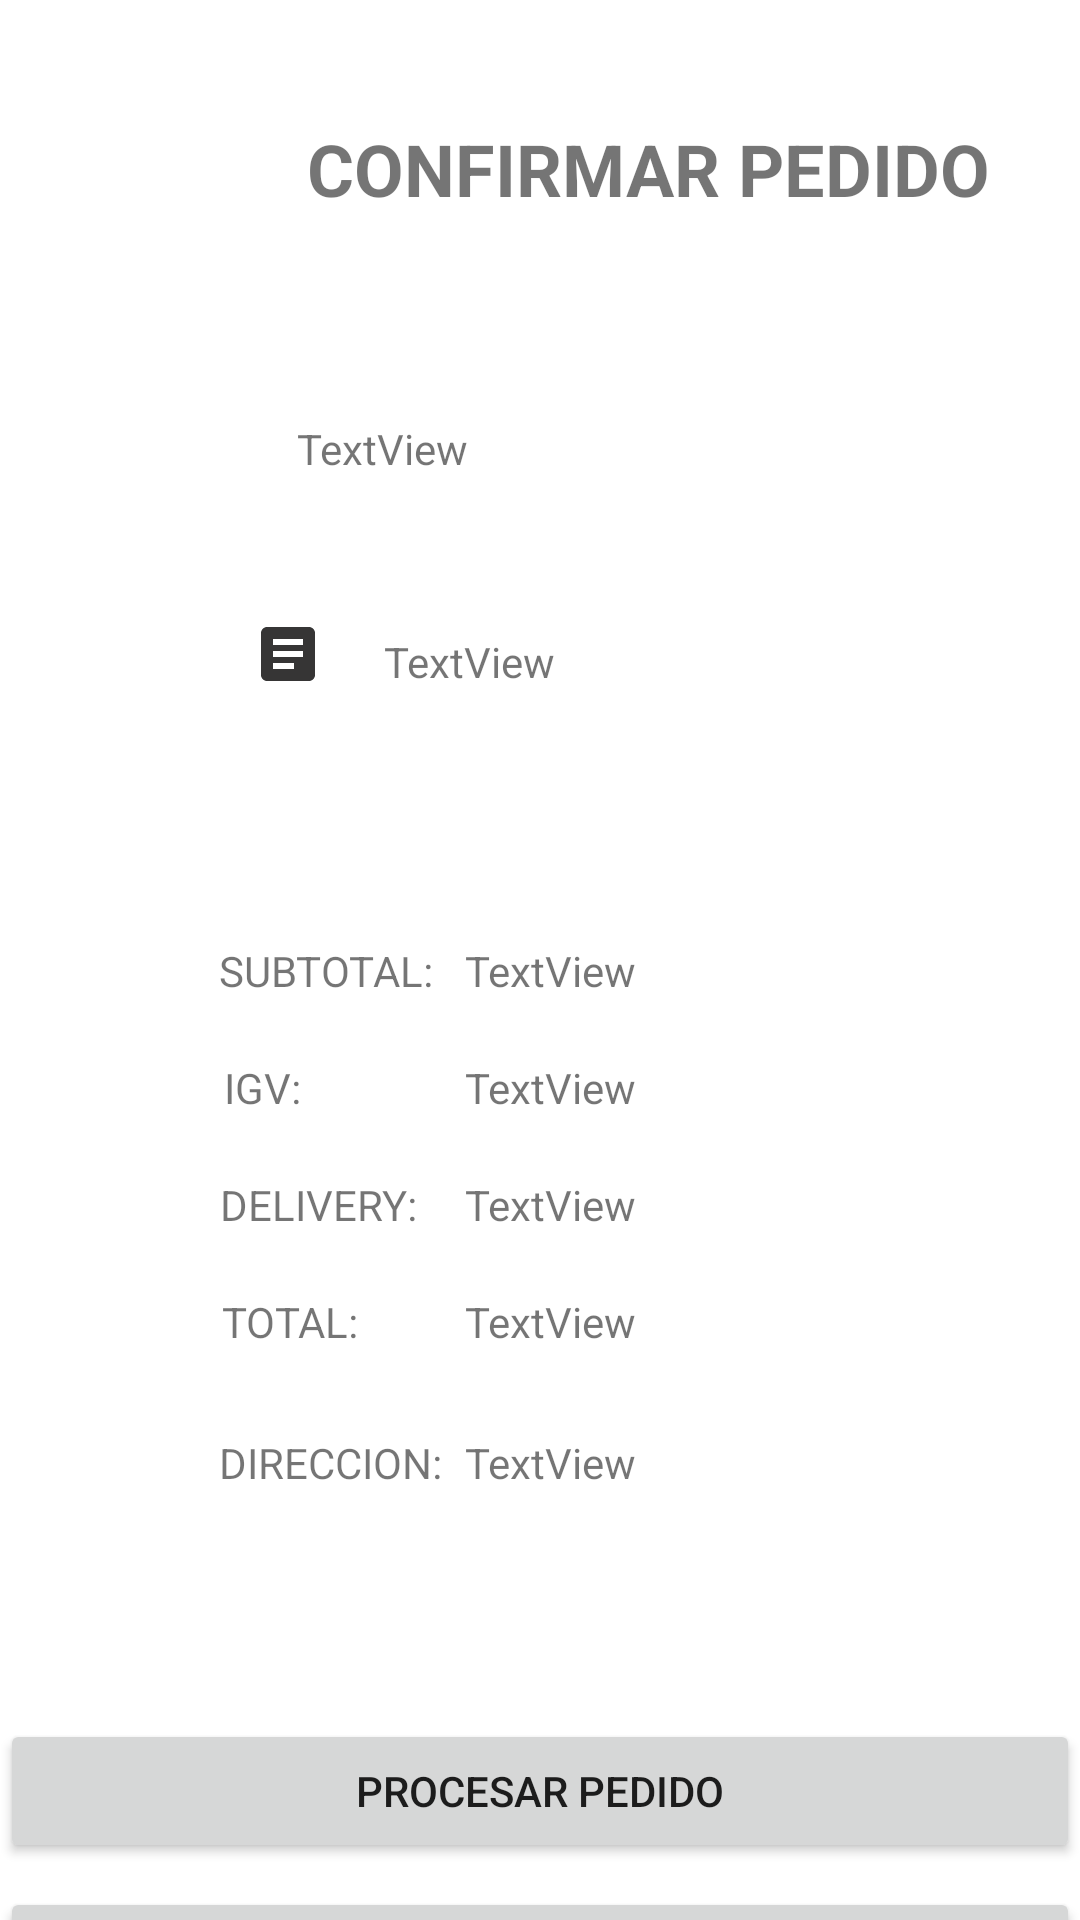

Icon click points for this 1080×1920 phone screenshot, format point (x, y):
article: point (288, 654)
